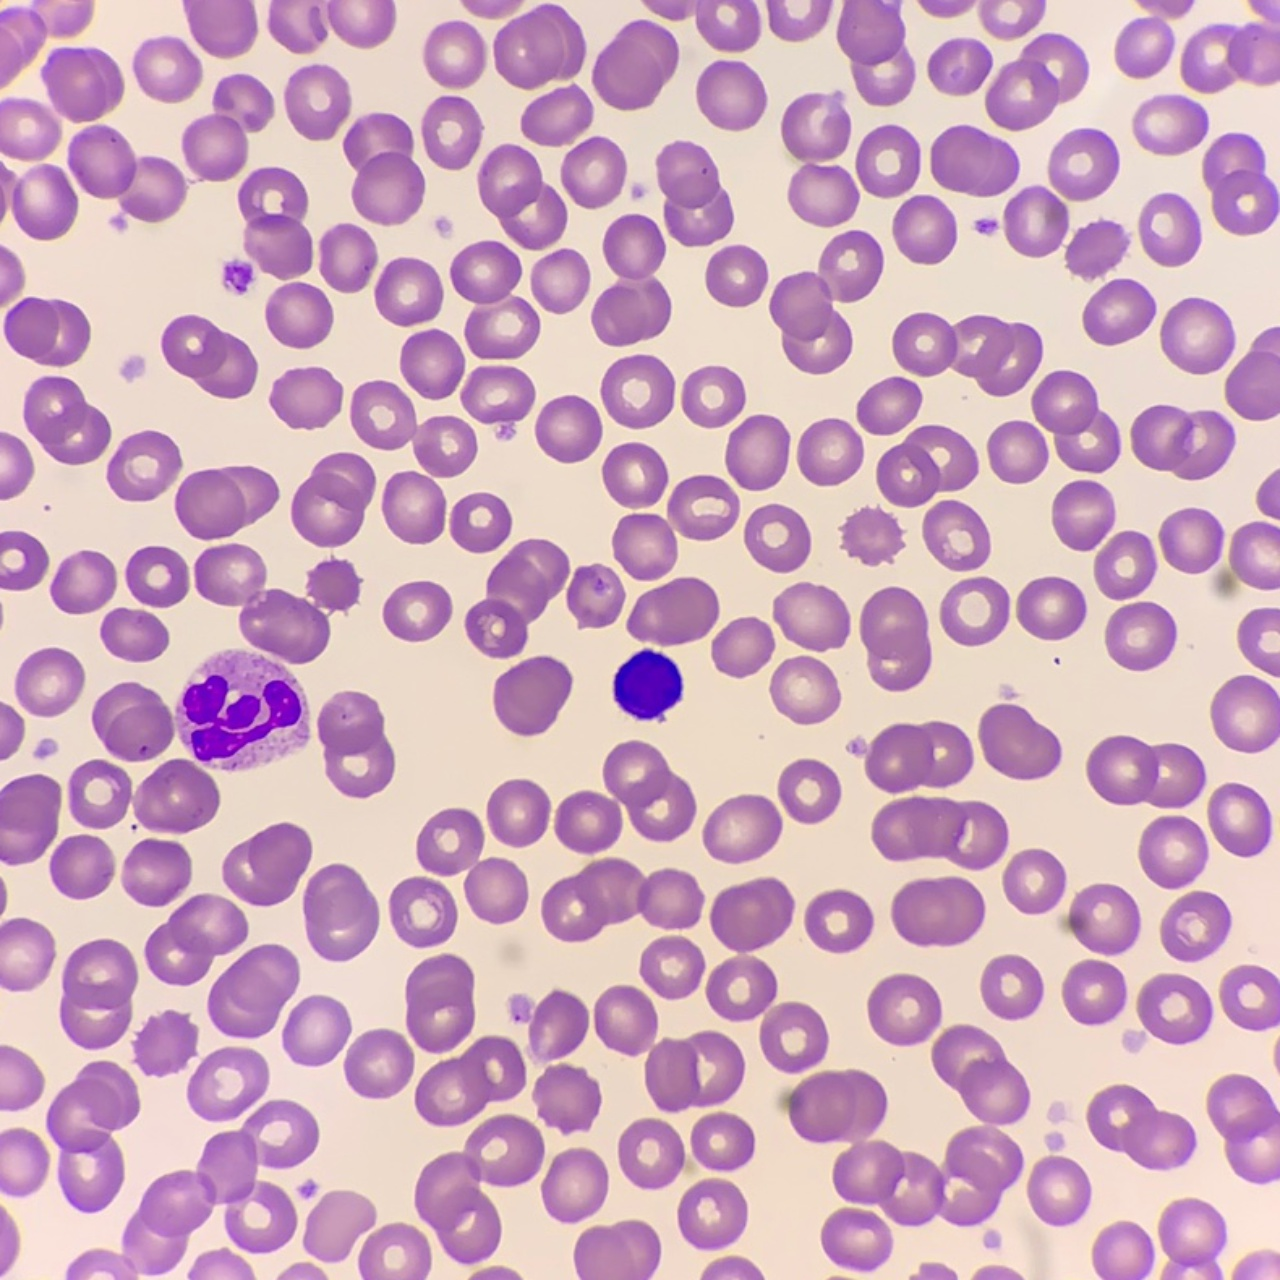RBC: (778, 1024, 1029, 1226), (66, 1099, 318, 1279), (91, 651, 302, 761), (195, 544, 359, 663), (415, 1114, 544, 1264), (594, 986, 744, 1111), (770, 230, 881, 373), (554, 741, 695, 853), (47, 1061, 139, 1211), (542, 858, 703, 941), (613, 475, 738, 580), (417, 808, 527, 922), (893, 313, 1042, 396), (465, 539, 568, 658), (350, 381, 476, 477), (68, 125, 186, 222), (781, 93, 858, 226), (450, 241, 539, 358), (592, 215, 670, 345), (415, 1036, 525, 1125), (872, 796, 1007, 869), (182, 74, 273, 181), (985, 34, 1085, 130), (145, 894, 247, 983), (1087, 1085, 1196, 1169), (478, 145, 566, 248), (1182, 0, 1279, 93), (343, 113, 424, 224), (849, 721, 973, 792), (1032, 372, 1119, 472), (207, 944, 299, 1036), (60, 939, 137, 1048), (1087, 736, 1206, 806), (238, 166, 312, 279), (876, 425, 978, 506), (837, 0, 914, 105), (318, 692, 394, 797), (162, 315, 257, 399), (0, 0, 91, 86), (493, 4, 585, 89), (292, 452, 375, 546), (1201, 132, 1278, 234), (658, 142, 733, 245), (23, 376, 111, 464), (1207, 1074, 1279, 1182), (592, 20, 678, 109), (1131, 406, 1234, 479), (175, 467, 279, 539), (223, 823, 311, 905), (302, 864, 377, 960), (860, 587, 930, 690), (268, 0, 395, 53), (406, 954, 474, 1051), (132, 760, 219, 833), (891, 877, 983, 945), (627, 577, 719, 645), (979, 704, 1061, 779), (710, 878, 794, 952), (931, 125, 1017, 196), (1115, 0, 1192, 79), (493, 656, 571, 735), (4, 297, 90, 366), (188, 1047, 268, 1121), (645, 0, 760, 52), (42, 48, 123, 121), (1058, 884, 1141, 955), (0, 165, 77, 239), (1160, 298, 1234, 373), (510, 990, 588, 1060), (1137, 974, 1213, 1044), (1210, 675, 1279, 753), (0, 775, 60, 864), (601, 355, 674, 428), (1159, 1199, 1225, 1279), (869, 974, 941, 1046), (619, 1118, 693, 1189), (772, 583, 849, 651), (703, 795, 781, 862), (302, 1191, 375, 1261), (107, 431, 181, 501), (1139, 816, 1208, 888), (574, 1220, 660, 1279), (1225, 327, 1279, 420), (1160, 891, 1231, 961), (1049, 129, 1118, 200), (285, 64, 350, 139), (1213, 522, 1279, 597), (542, 1149, 607, 1223), (1105, 602, 1176, 670), (613, 648, 681, 719), (282, 995, 350, 1065), (760, 1002, 828, 1073), (678, 1179, 745, 1250), (726, 415, 789, 490), (940, 577, 1009, 645), (697, 61, 765, 129), (16, 648, 84, 716), (345, 1029, 413, 1097), (922, 501, 989, 570), (533, 1064, 600, 1133), (390, 877, 456, 947), (706, 954, 776, 1020), (1083, 279, 1155, 343), (771, 656, 839, 723), (123, 839, 191, 906), (561, 137, 626, 207), (856, 125, 919, 197), (1208, 783, 1271, 856), (375, 258, 442, 325), (744, 504, 810, 572), (382, 472, 445, 543), (821, 1208, 892, 1271), (1139, 193, 1200, 266), (1133, 95, 1207, 155), (461, 366, 535, 425), (536, 396, 602, 462), (797, 418, 863, 485), (134, 38, 202, 102), (1005, 186, 1068, 256), (1027, 1156, 1090, 1225), (270, 368, 342, 428), (266, 282, 332, 348), (893, 195, 956, 263), (401, 331, 464, 399), (1051, 481, 1114, 550), (1016, 577, 1085, 639), (520, 86, 592, 145), (422, 96, 481, 169), (486, 779, 550, 846), (1094, 531, 1156, 599), (69, 760, 131, 828), (805, 890, 873, 952), (184, 0, 257, 57), (602, 443, 667, 508), (1062, 960, 1126, 1024), (1159, 508, 1223, 573), (425, 21, 486, 88), (222, 722, 308, 769), (383, 581, 451, 641), (359, 1223, 430, 1279), (50, 835, 114, 898), (134, 1012, 197, 1075), (52, 551, 116, 613), (1003, 849, 1065, 913), (778, 760, 840, 823), (981, 955, 1043, 1019), (640, 937, 704, 998), (1219, 965, 1279, 1030), (0, 918, 54, 990), (320, 224, 377, 292), (682, 366, 745, 427), (125, 546, 188, 607), (987, 421, 1047, 483), (712, 617, 774, 676), (531, 248, 588, 313), (0, 98, 60, 159), (706, 246, 767, 306), (927, 38, 990, 95), (857, 377, 921, 434), (450, 493, 511, 552), (692, 1112, 754, 1170), (567, 564, 624, 627), (101, 608, 168, 661), (1065, 220, 1126, 278), (843, 508, 901, 565), (1092, 1223, 1152, 1279), (0, 1128, 48, 1196), (0, 1046, 43, 1110), (1238, 608, 1279, 676), (0, 531, 48, 588), (765, 0, 830, 40), (979, 0, 1044, 39), (0, 433, 33, 499), (189, 1250, 253, 1279), (0, 247, 23, 306), (702, 1257, 762, 1279), (0, 704, 23, 760), (1233, 1251, 1279, 1279), (0, 1208, 19, 1274), (1257, 471, 1279, 518), (463, 0, 520, 18), (920, 0, 973, 18), (225, 260, 252, 290), (911, 1262, 956, 1279), (280, 1262, 325, 1279), (472, 1266, 518, 1279), (974, 1266, 1020, 1279), (1123, 1032, 1145, 1050), (123, 358, 143, 377), (38, 738, 55, 755), (1046, 1133, 1063, 1150), (983, 1231, 1000, 1247), (1051, 1104, 1063, 1119), (0, 884, 6, 910), (632, 186, 642, 197), (437, 220, 448, 230), (1274, 1046, 1279, 1065), (117, 220, 125, 229), (975, 222, 983, 229), (1005, 689, 1012, 697), (38, 0, 49, 5)
